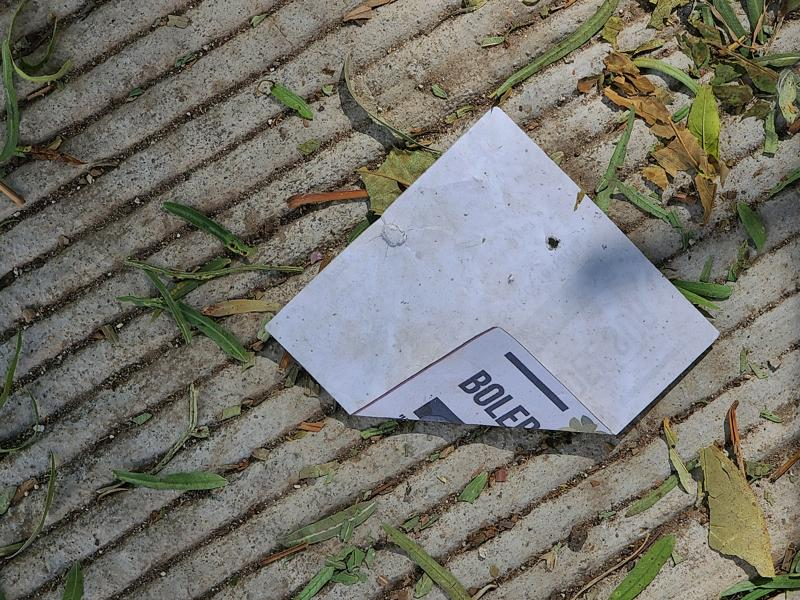papel: (263, 108, 720, 445)
